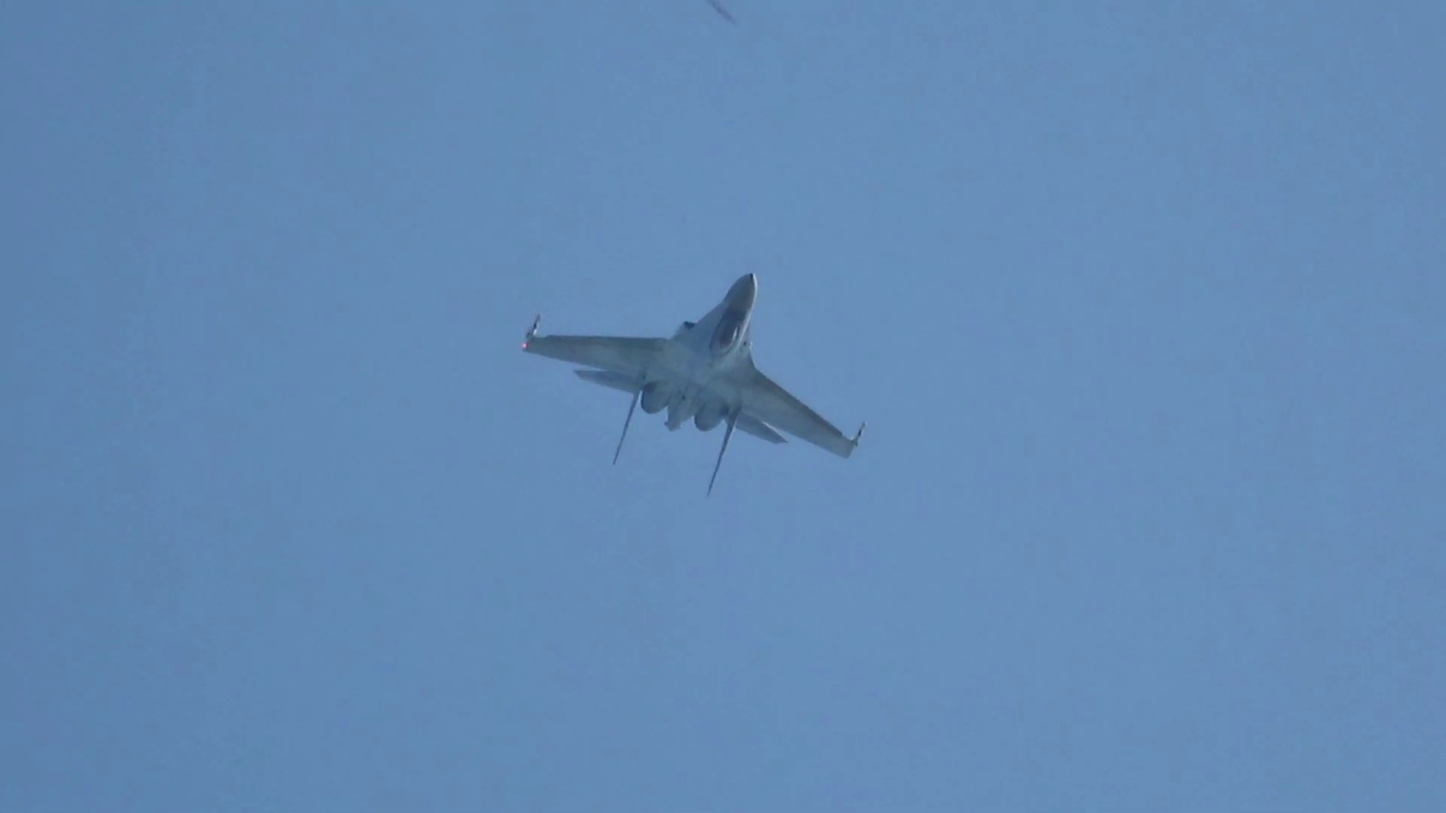Su35: (522, 273, 866, 497)
